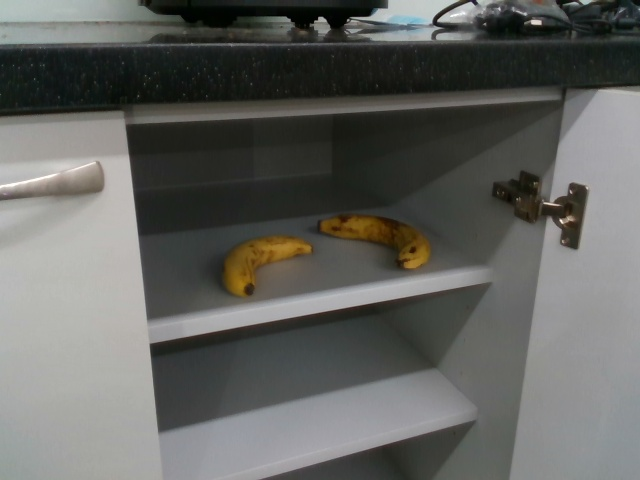banana: (315, 211, 432, 271), (217, 234, 314, 299)
